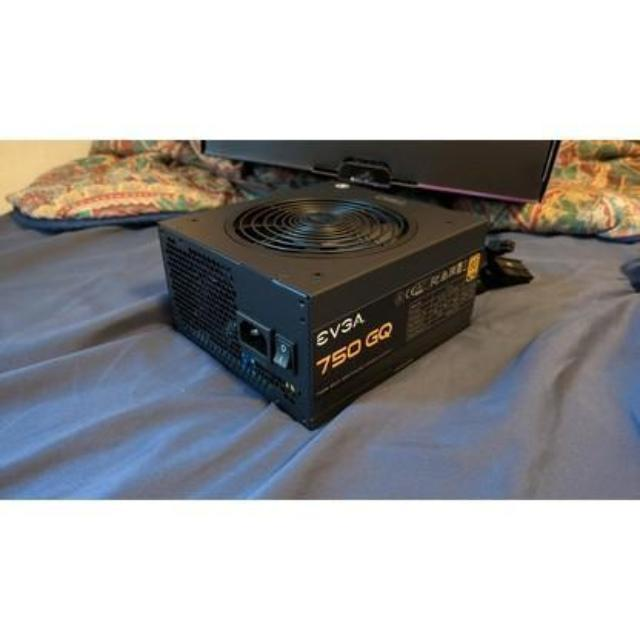PSU: (151, 168, 489, 430)
